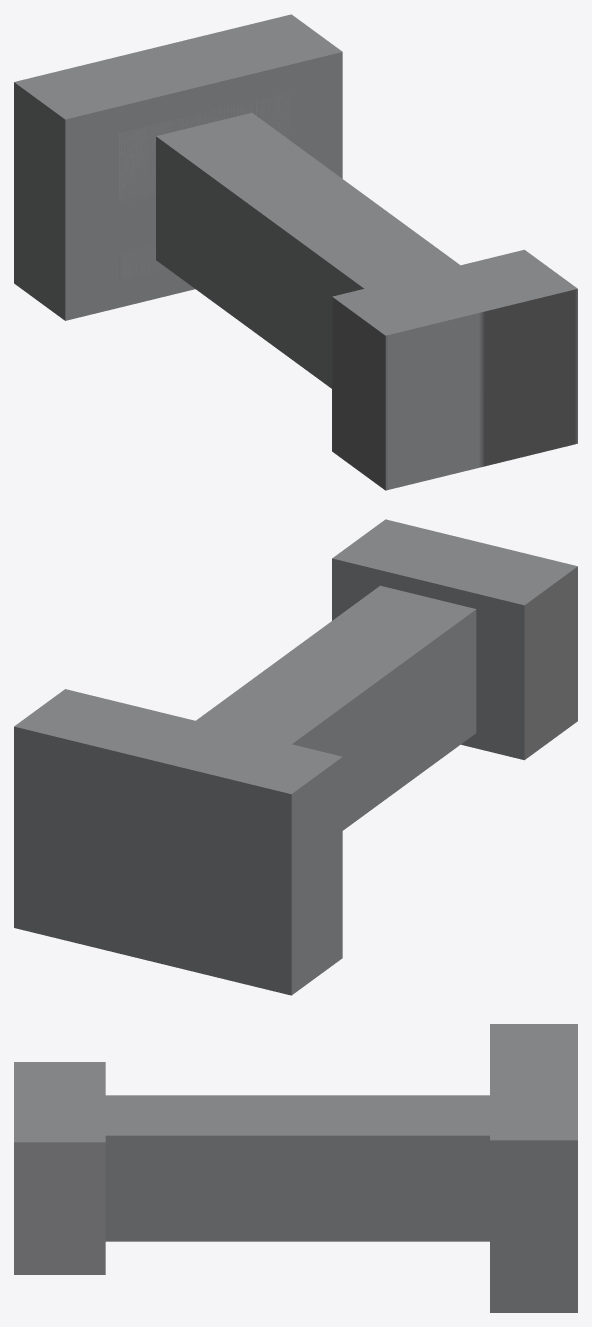
3 renders of one model, top to bottom at view 1: azimuth 30°, elevation 25°; view 2: azimuth 150°, elevation 25°; view 3: azimuth 270°, elevation 25°, orthographic. The views are drawn at different scales.
Bounding box in the file's own units: 0.081 × 0.0562 × 0.1663.
